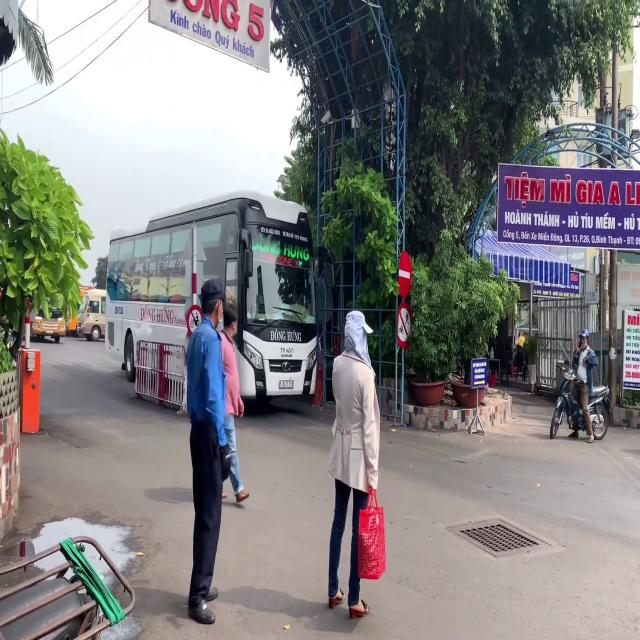bien_trang: (278, 378, 294, 390)
